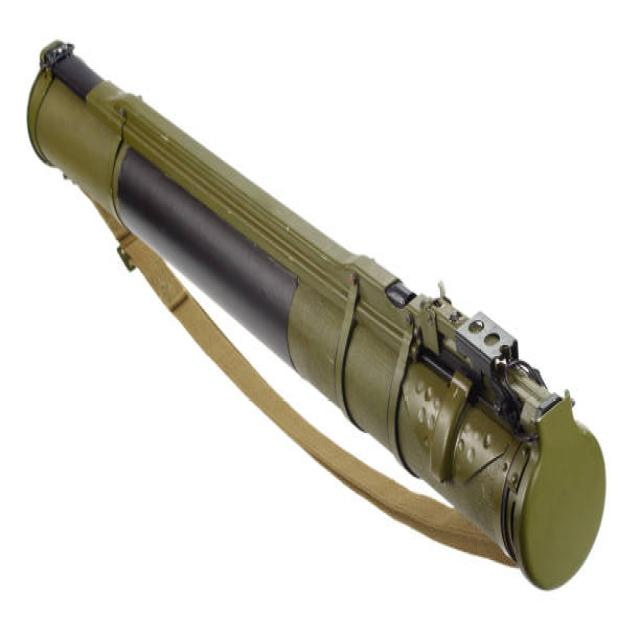bazooka: (26, 32, 615, 602)
